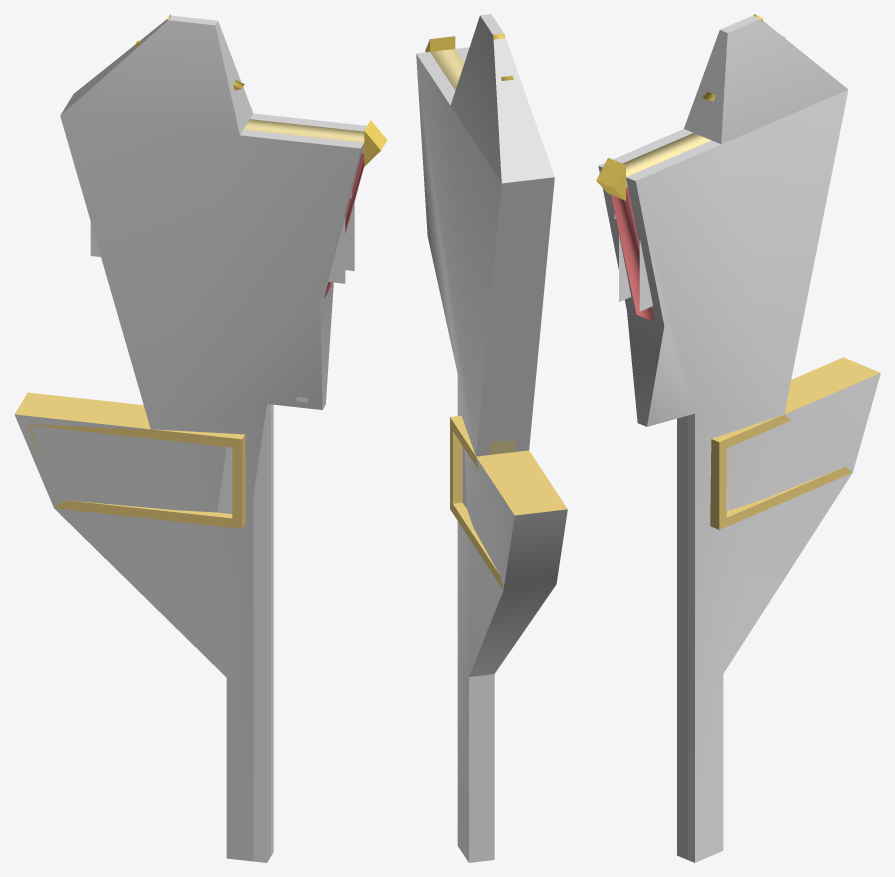
The model's file is s_motel_sign.dae.
3 renders of one model, left to right at view 1: azimuth 30°, elevation 25°; view 2: azimuth 150°, elevation 25°; view 3: azimuth 270°, elevation 25°, orthographic. The views are drawn at different scales.
Parts seen in each view (by area): view 1: Colmesh_s_motel_sign-1, s_motel_sign_L100; view 2: Colmesh_s_motel_sign-1, s_motel_sign_L100; view 3: Colmesh_s_motel_sign-1, s_motel_sign_L100.
Part boxes in pixels (x1,y1,x2,y2): Colmesh_s_motel_sign-1: (14,15,366,862); s_motel_sign_L100: (15,14,387,862); Colmesh_s_motel_sign-1: (416,14,567,862); s_motel_sign_L100: (425,33,567,589); Colmesh_s_motel_sign-1: (598,15,880,862); s_motel_sign_L100: (596,14,880,862).
Size of the model in its own units: 3.44 by 3.38 by 10.66.
